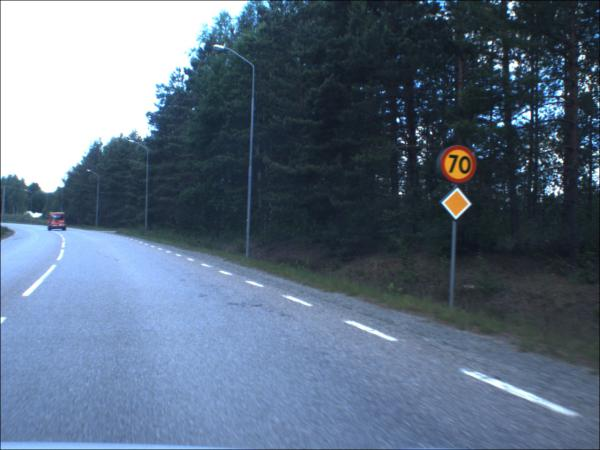70_SIGN: (441, 146, 479, 186)
PRIORITY_ROAD: (442, 189, 474, 223)
